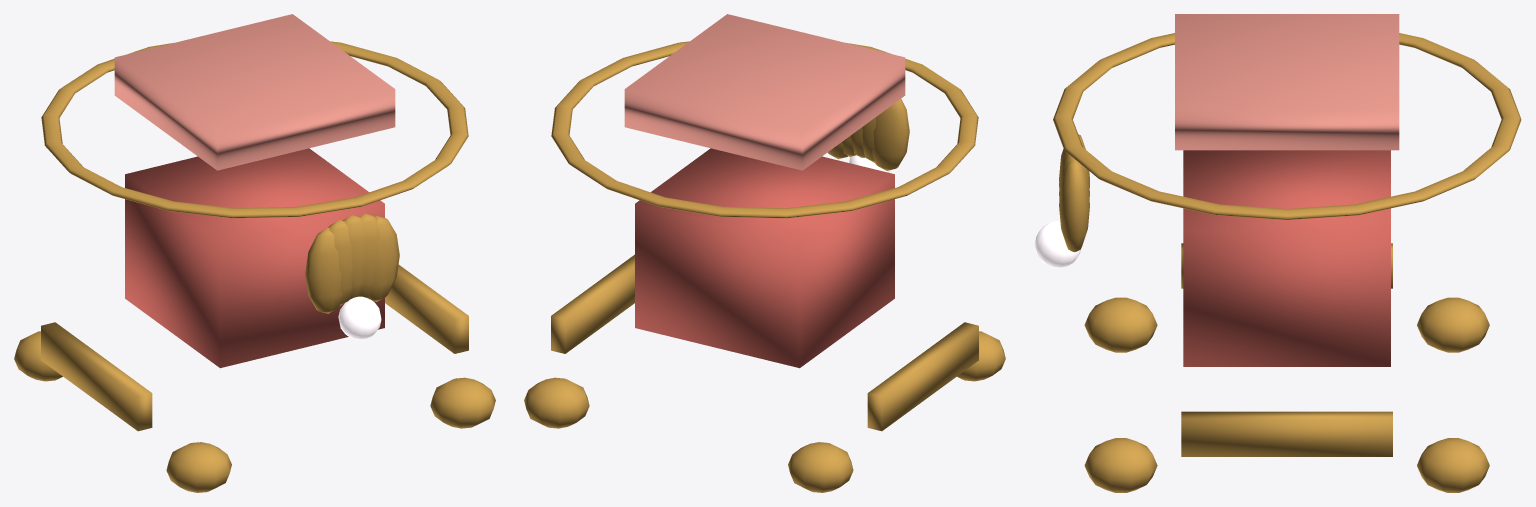
The model's file is opera_detective_box_0.glb.
3 renders of one model, left to right at view 1: azimuth 30°, elevation 25°; view 2: azimuth 150°, elevation 25°; view 3: azimuth 270°, elevation 25°, orthographic. The views are drawn at different scales.
Parts seen in each view (by area): view 1: VisualMesh, LidTop, LidTrim; view 2: VisualMesh, LidTop, LidTrim; view 3: VisualMesh, LidTop, LidTrim.
Part boxes in pixels (<box>): VisualMesh: <box>14,148,495,492</box>; LidTop: <box>114,14,395,170</box>; LidTrim: <box>41,41,468,218</box>; VisualMesh: <box>524,99,1005,492</box>; LidTop: <box>624,14,905,170</box>; LidTrim: <box>551,41,978,218</box>; VisualMesh: <box>1034,134,1489,492</box>; LidTop: <box>1175,14,1399,150</box>; LidTrim: <box>1053,33,1521,219</box>.
Bounding box in the file's own units: 2.82 × 2.37 × 2.93.
